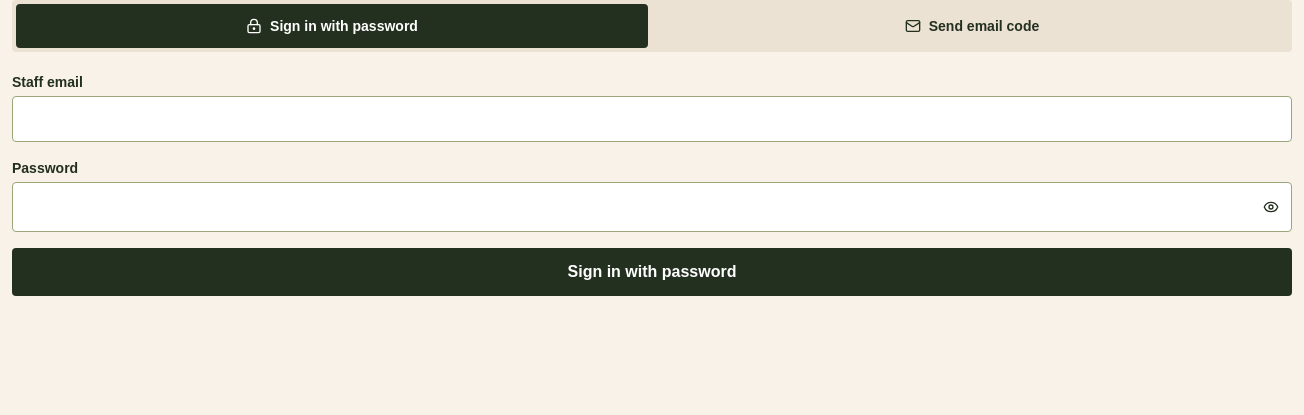
Test: StaffLoginOptions password flow › shows readable invalid credential errors
Type "staff@example.com" into the field labelled "Staff email".
click(652, 119); type("staff@example.com")  # box [12,96,1292,142]
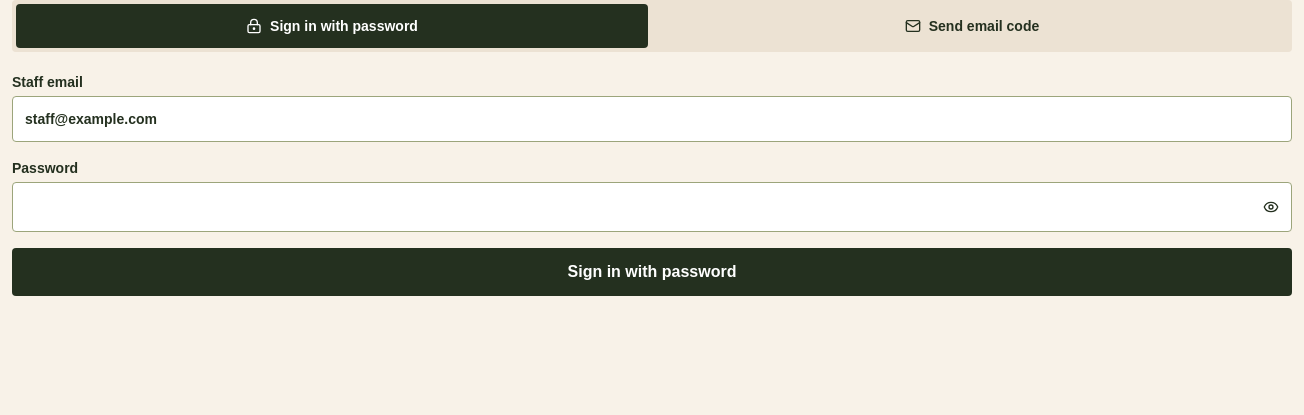
Type "correct horse battery staple" into the password field labelled "Password".
click(632, 207); type("correct horse battery staple")  # box [13,185,1251,229]
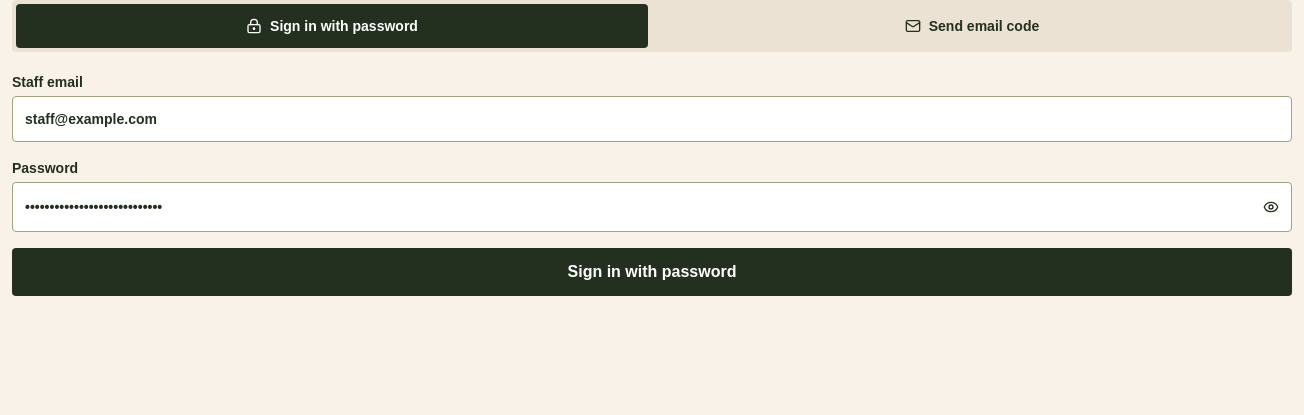
Submit the form labelled "Staff email Password Sign in with password"
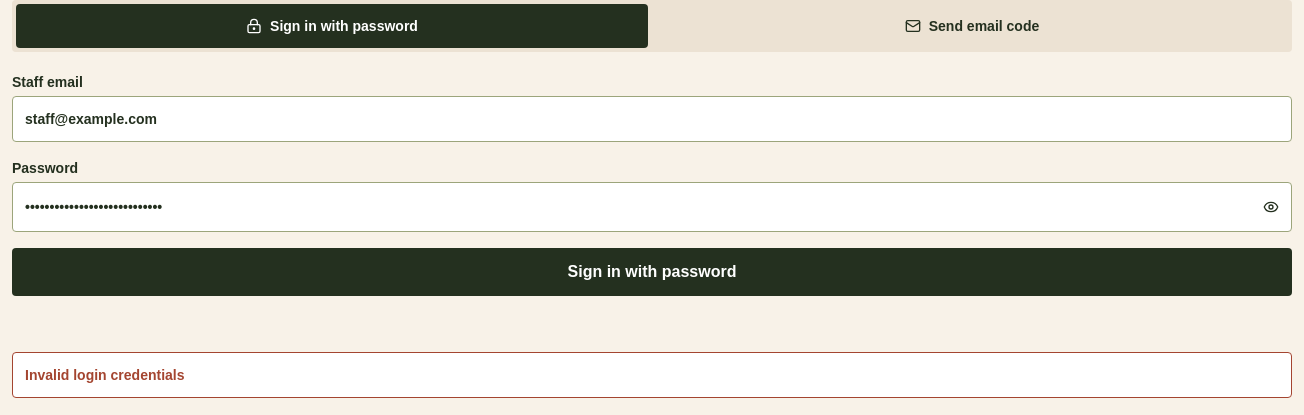
Result: the message reads "Invalid login credentials" at [25,367,184,383]
